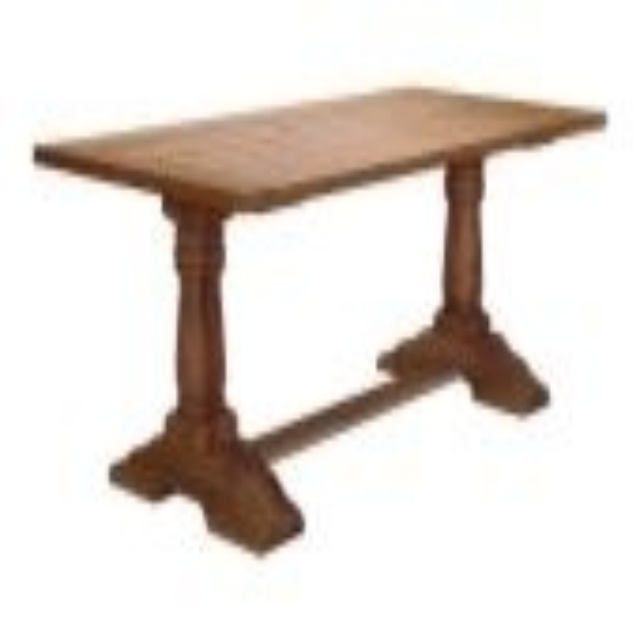obstacle: (34, 88, 602, 546)
